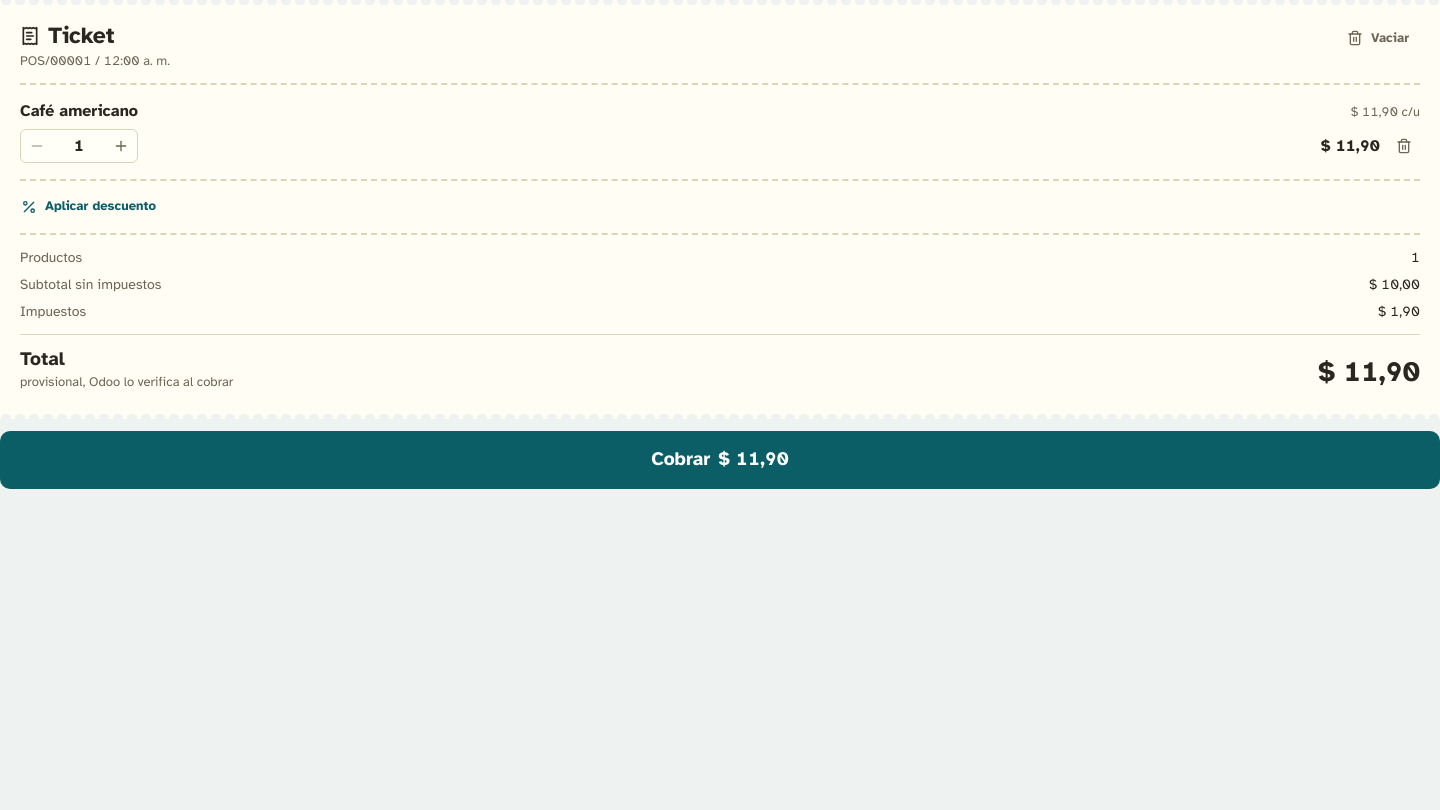
Test: Ticket (P07) › vaciar el ticket pide confirmación
Later steps or results of the test are not shown.
Step 1. Click the button "Vaciar" → click(1378, 38), box [1336, 22, 1420, 54]
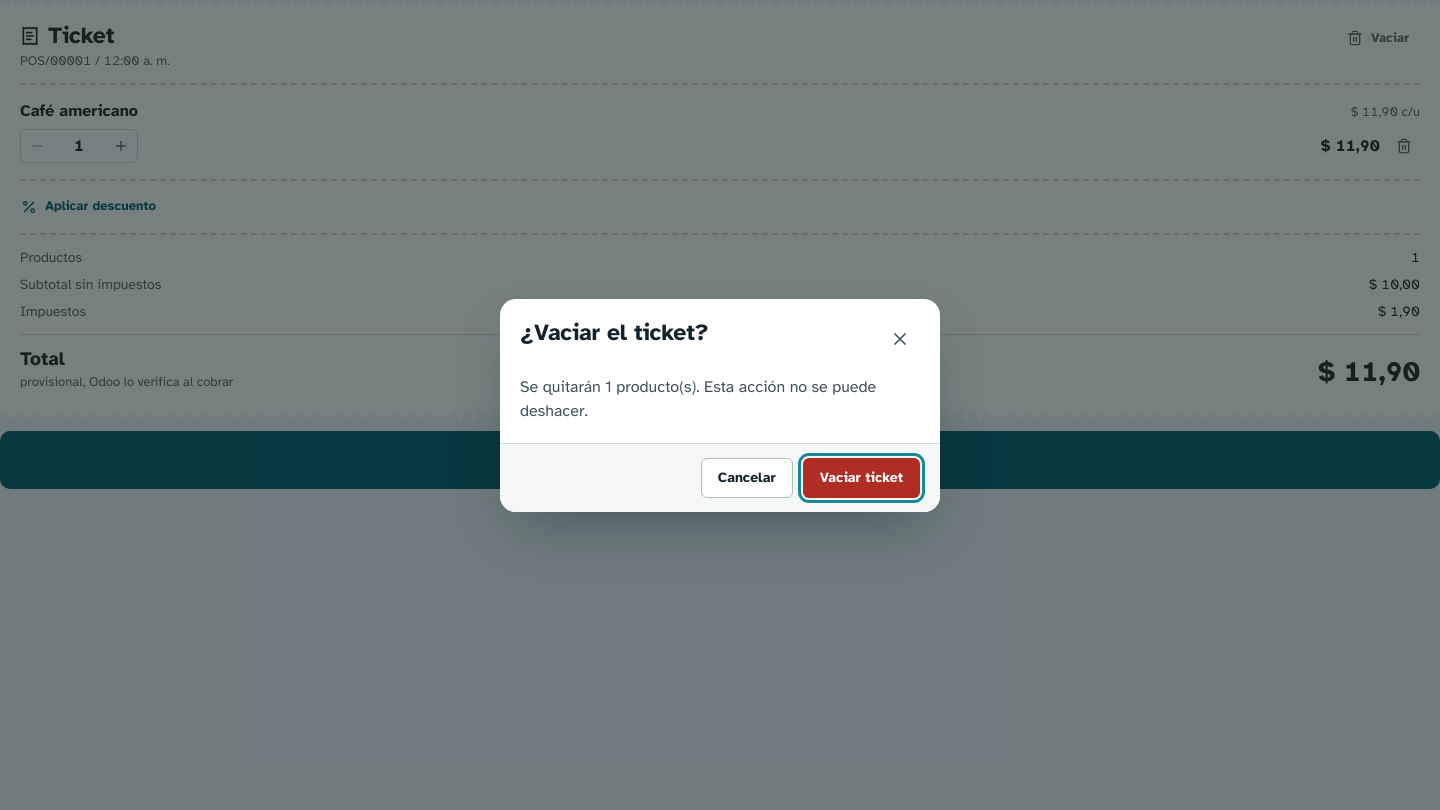
Result: the dialog "¿Vaciar el ticket?" is shown at [500, 298, 940, 512]
